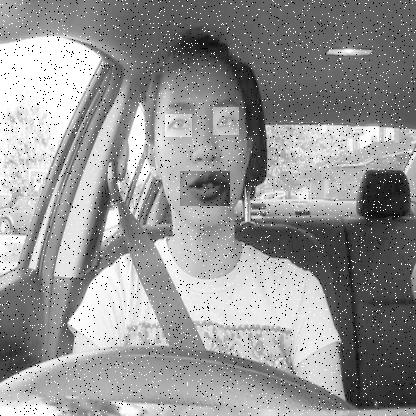seatbelt: (124, 29, 264, 354)
